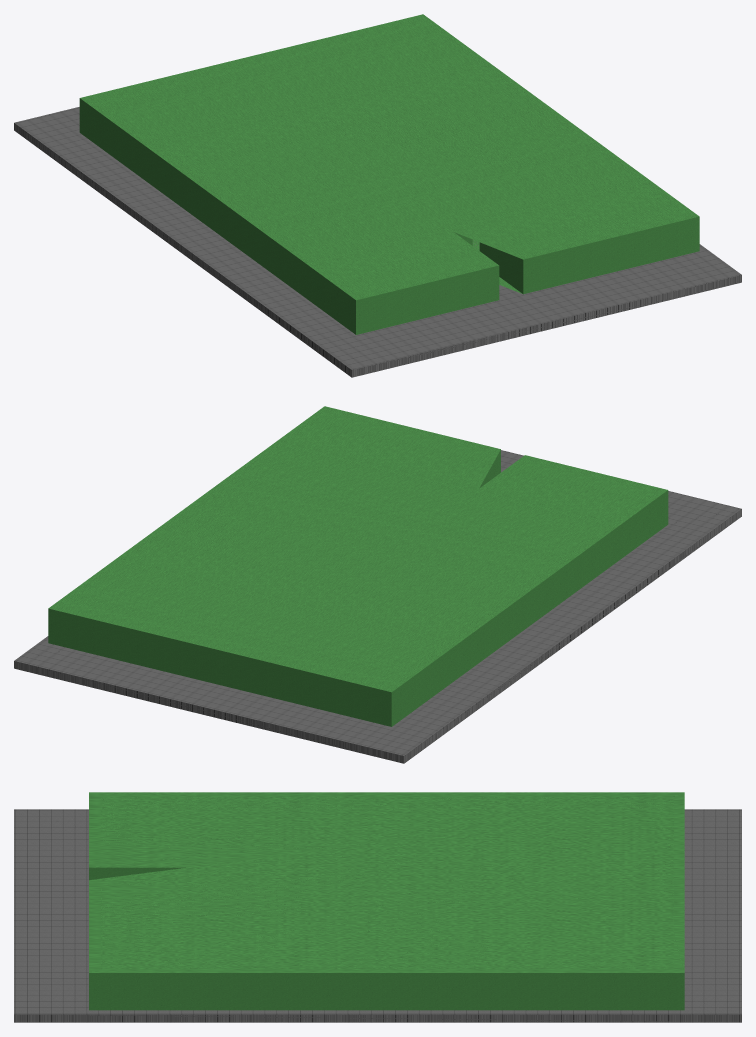
The model's file is maze.FBX.
3 views of the same model, one above another, from view 1: azimuth 30°, elevation 25°; view 2: azimuth 150°, elevation 25°; view 3: azimuth 270°, elevation 25° (orthographic). The views are drawn at different scales.
Visible parts, largest first — view 1: maze, floor; view 2: maze, floor; view 3: maze, floor.
Part boxes in pixels (x1,y1,x2,y2): maze: (79,14,699,334); floor: (14,107,741,377); maze: (48,406,668,726); floor: (14,450,741,763); maze: (89,792,684,1010); floor: (14,809,741,1022).
Bounding box in the file's own units: 100 × 10.39 × 150.
2 materials, 2 textured.
